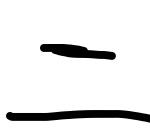eqv: (7, 44, 150, 123)
